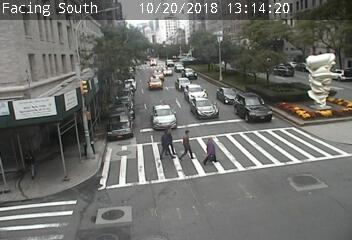car: (234, 92, 272, 122), (151, 105, 176, 129), (190, 98, 218, 118), (184, 84, 207, 104), (216, 87, 241, 104), (175, 78, 191, 91), (148, 76, 162, 90), (181, 68, 197, 80), (152, 70, 164, 81), (162, 67, 172, 76), (174, 64, 185, 72), (165, 60, 174, 67), (150, 59, 156, 66)
